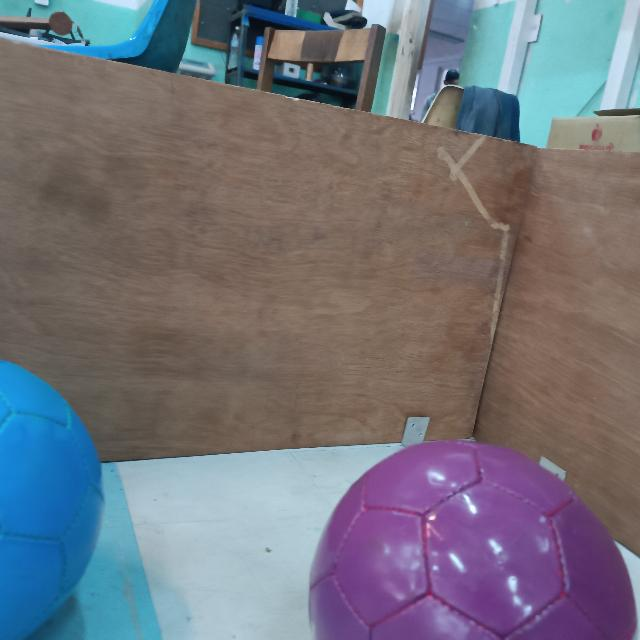P: (302, 438, 640, 640)
